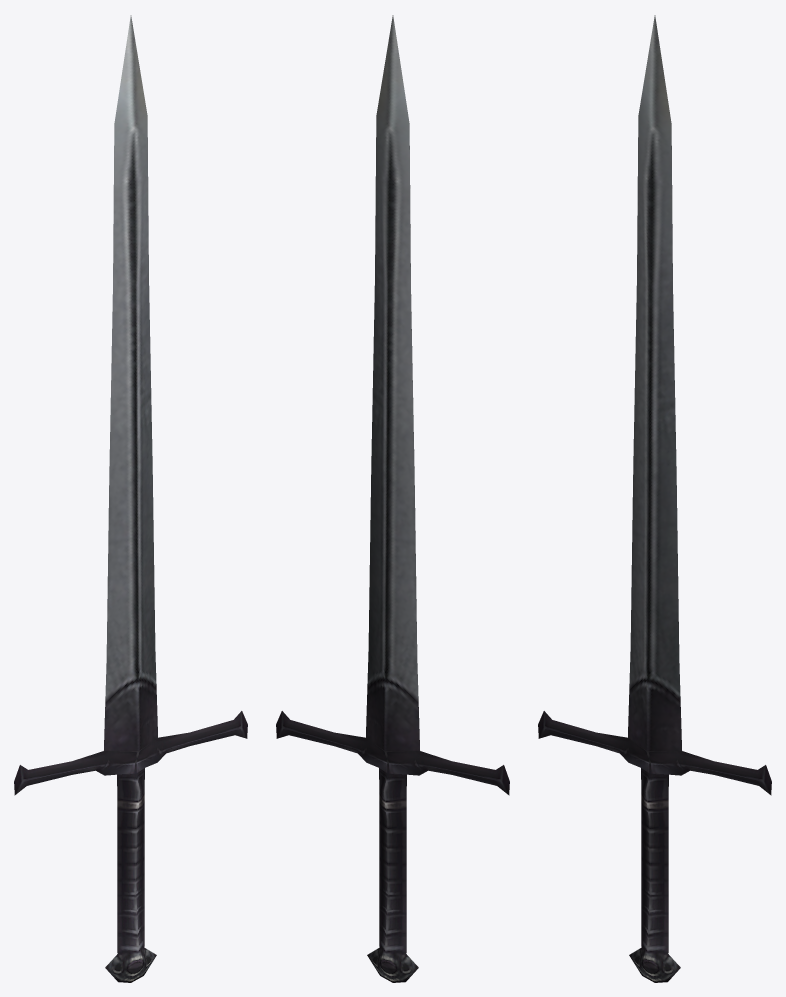
The model's file is weapon01.FBX.
3 renders of one model, left to right at view 1: azimuth 30°, elevation 25°; view 2: azimuth 150°, elevation 25°; view 3: azimuth 330°, elevation 25°, orthographic.
Visible parts, largest first — view 1: wp_n_001; view 2: wp_n_001; view 3: wp_n_001.
Part boxes in pixels (bbox=[...]): wp_n_001: bbox=[14, 15, 247, 982]; wp_n_001: bbox=[276, 15, 509, 982]; wp_n_001: bbox=[538, 15, 771, 982].
Bounding box in the file's own units: 0.3249 × 1.29 × 0.0426.
